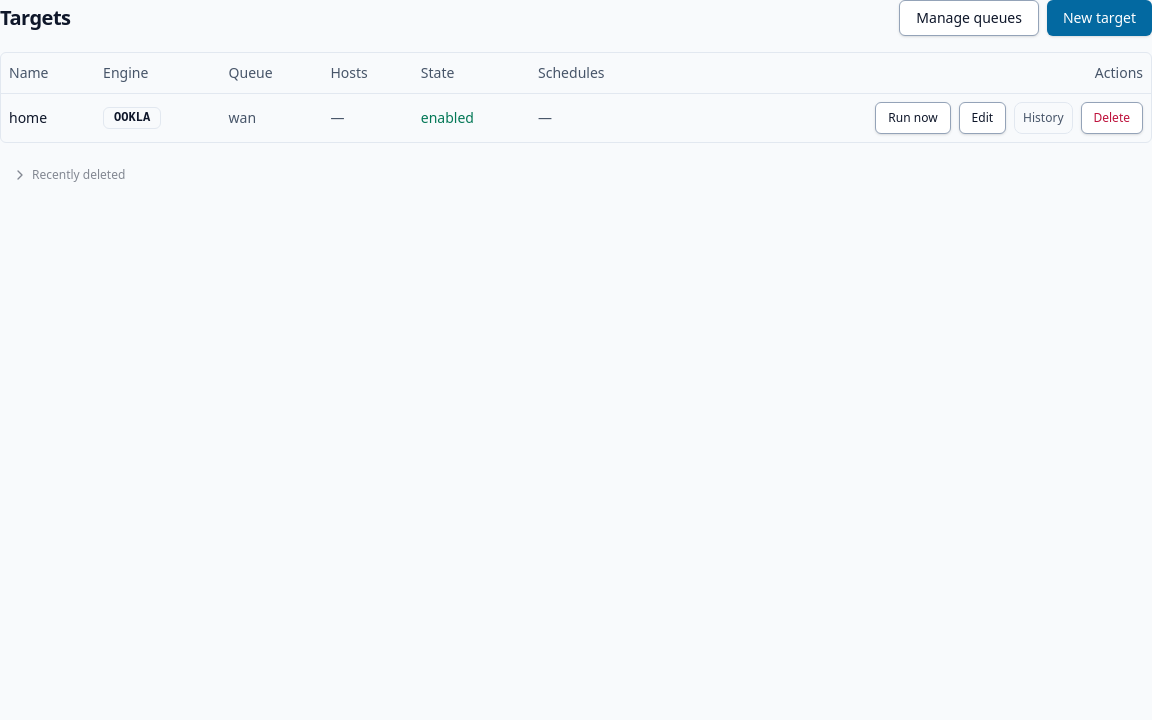
Test case: Targets page delete confirmation › shows an error when delete fails
This screenshot has width=1152, height=720.
Expected: the text "home" is shown, 1,93 -> 95,142
Click the button "Delete". click: (1112, 118)
box: 1080,102 -> 1143,134
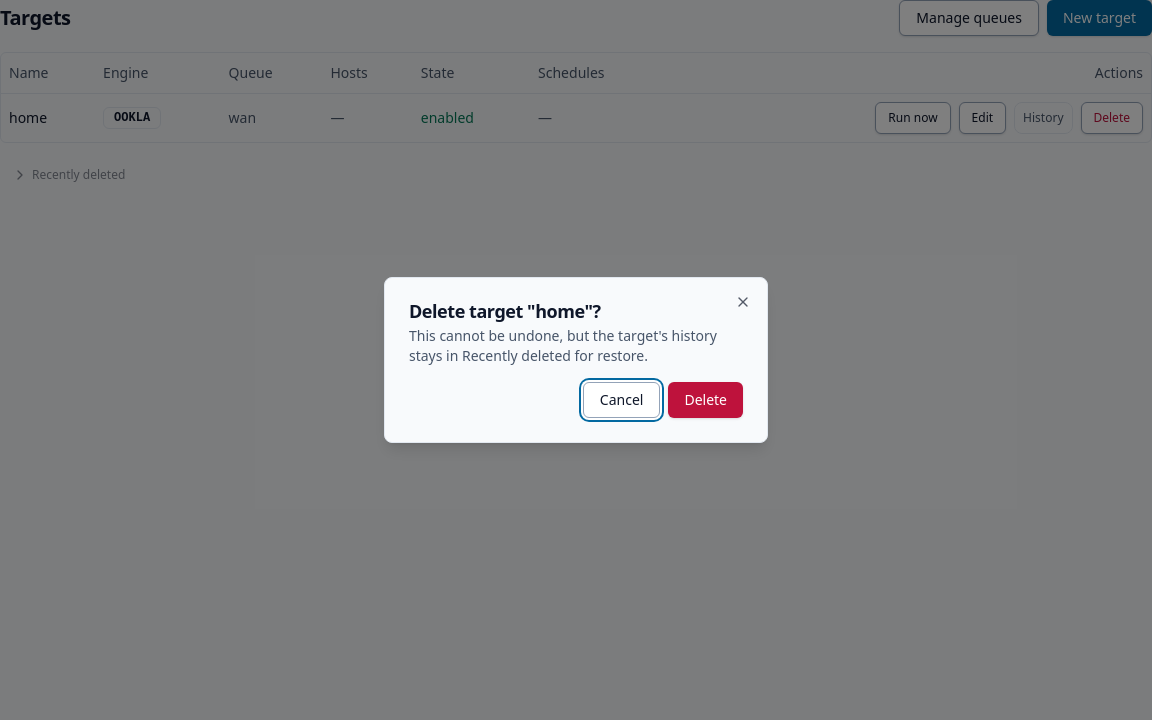
Click the button "Delete". click: (706, 400)
box: 668,382 -> 743,418
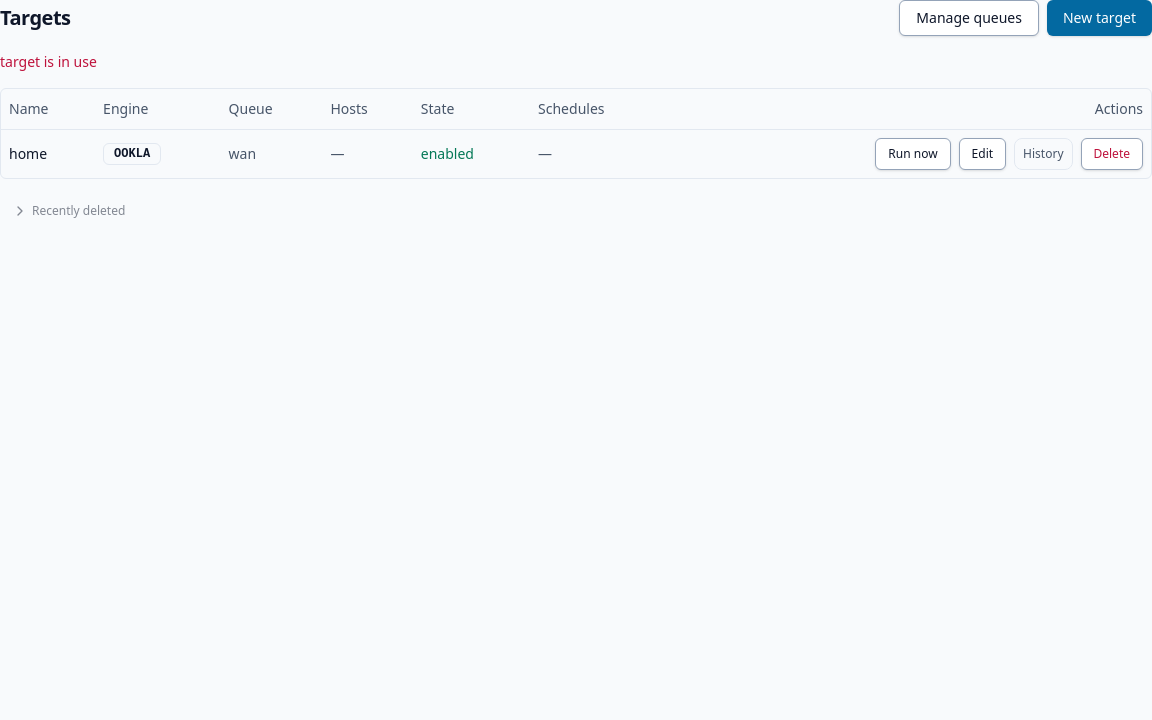
Now the message reads "target is in use", box 0,52 -> 97,71
